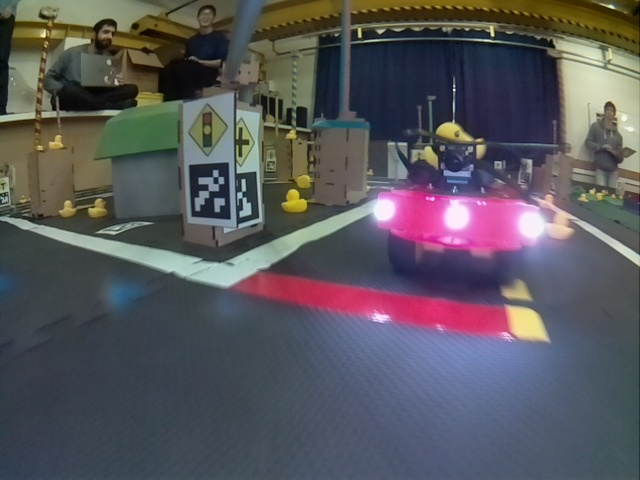Duckie: (421, 124, 486, 168), (547, 212, 573, 237), (281, 189, 307, 213), (88, 199, 106, 218), (60, 201, 76, 217), (49, 135, 63, 150), (297, 176, 310, 188), (286, 129, 296, 139), (579, 194, 588, 203)
Duckiebot: (376, 142, 539, 280)
Intersection sign: (236, 117, 257, 166)
QR code: (187, 162, 231, 218), (231, 173, 259, 223), (97, 222, 152, 234)
Signal sign: (186, 103, 227, 155)
